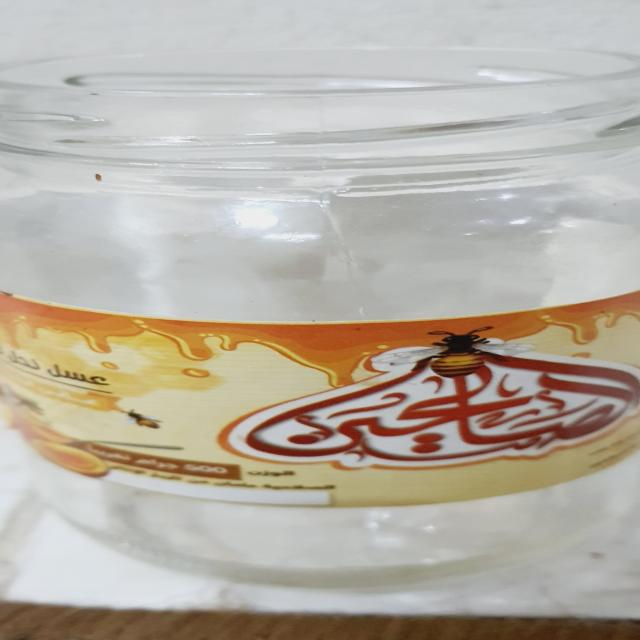glass: (0, 45, 640, 594)
